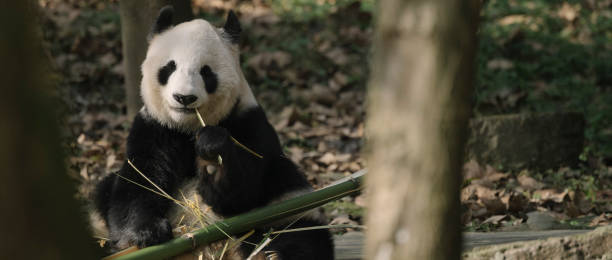panda: (133, 3, 261, 141)
